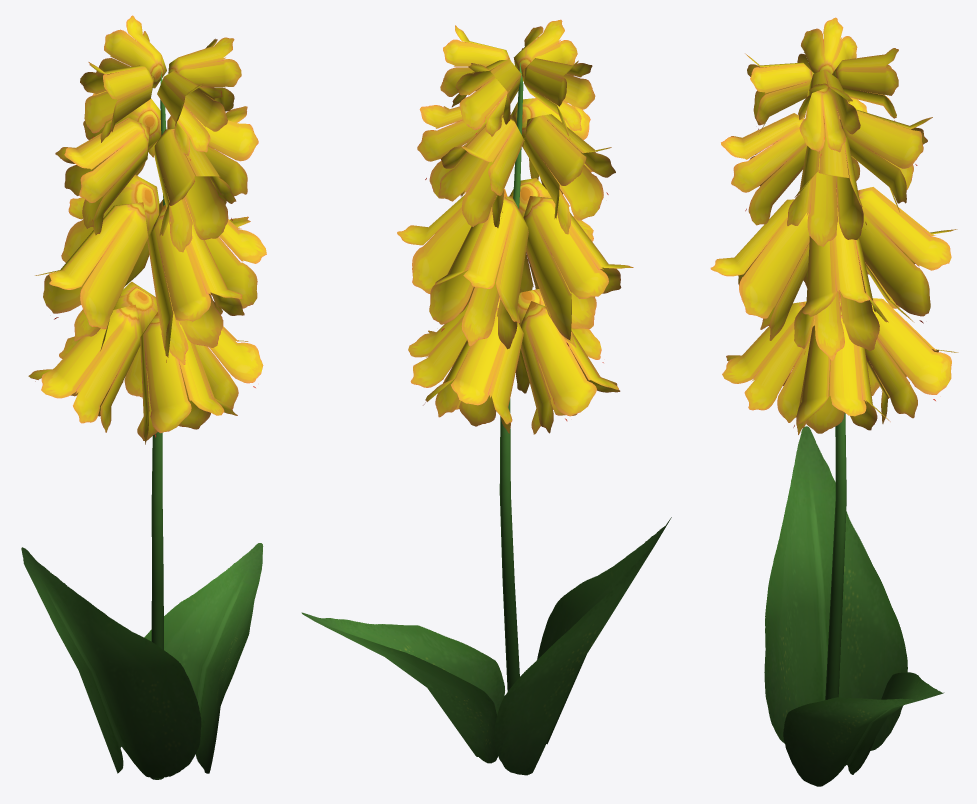
File: Flower_4_Single.glb
3 renders of one model, left to right at view 1: azimuth 30°, elevation 25°; view 2: azimuth 150°, elevation 25°; view 3: azimuth 270°, elevation 25°, orthographic.
Parts seen in each view (by area): view 1: Flower_4_Single; view 2: Flower_4_Single; view 3: Flower_4_Single.
Part boxes in pixels (x1,y1,x2,y2): Flower_4_Single: (21,15,266,779); Flower_4_Single: (301,19,671,775); Flower_4_Single: (710,17,958,786).
Bounding box in the file's own units: 1.07 × 2.42 × 0.7729.
Materials: 2 (2 with a texture image).
